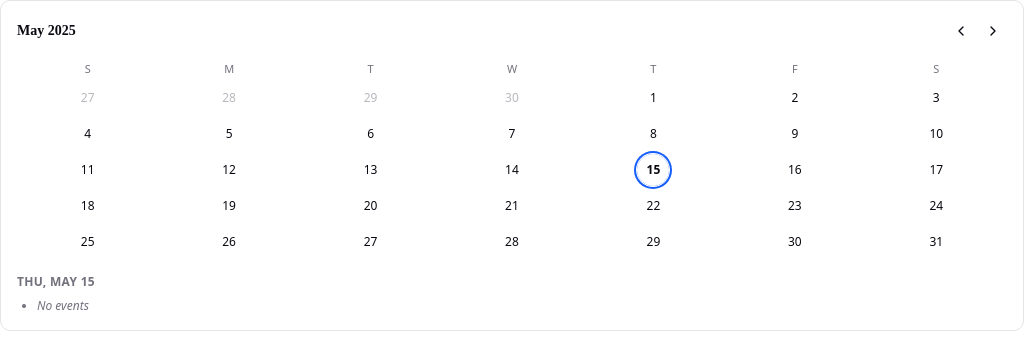
Test: MiniCalendarSidebar › Navigation › retreats the mini-calendar view month without changing selectedDate
Click the button with test id "mini-calendar-prev-month".
click(961, 31)  # box x1=947 y1=17 x2=975 y2=45
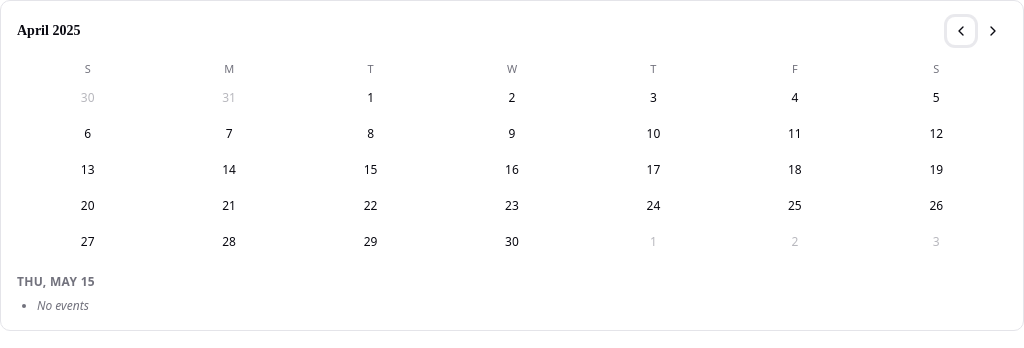
Result: the heading with test id "mini-calendar-header" reads "April 2025" at x1=17 y1=23 x2=80 y2=38
